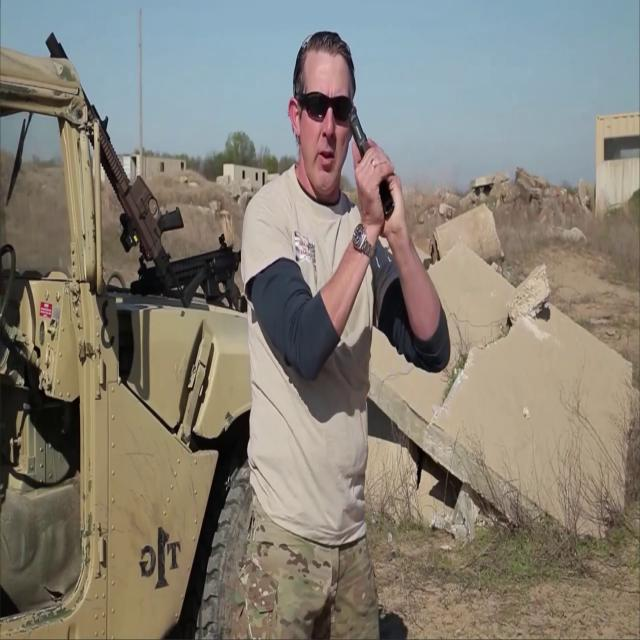Gun: (348, 110, 394, 218)
